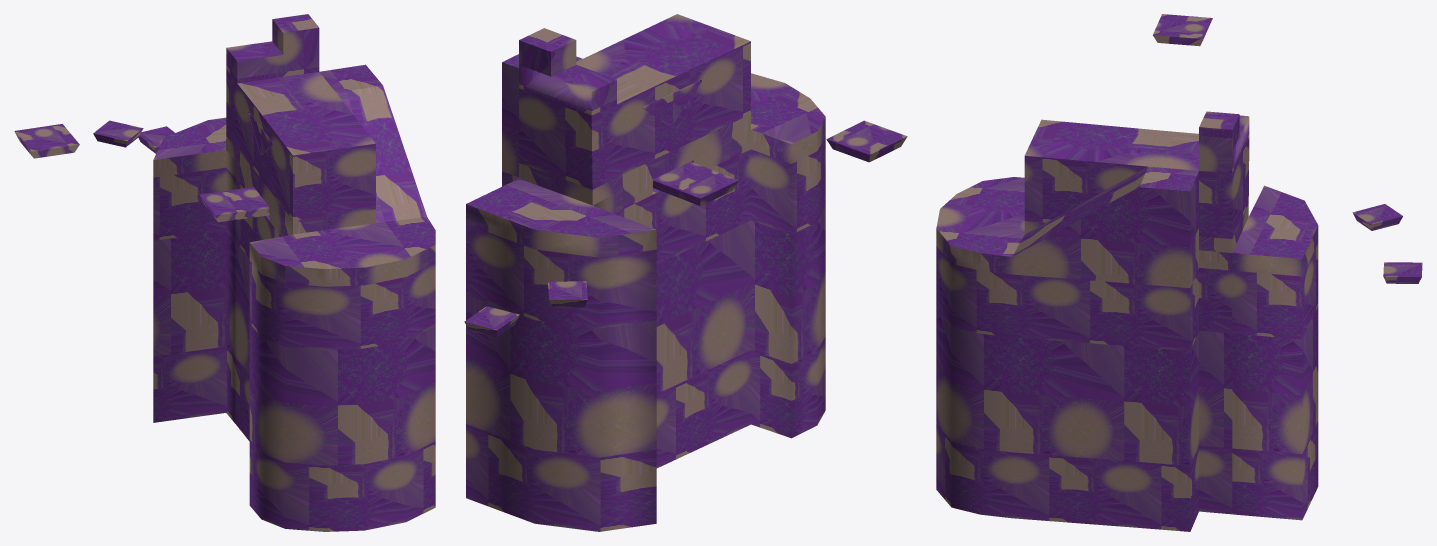
Rendered from metal monster.fbx.
The picture shows the model from 3 angles, left to right: view 1: azimuth 30°, elevation 25°; view 2: azimuth 150°, elevation 25°; view 3: azimuth 270°, elevation 25°; orthographic projection. The views are drawn at different scales.
Parts seen in each view (by area): view 1: polySurface108, polySurface107; view 2: polySurface108, polySurface107, polySurface110; view 3: polySurface108.
Boxes of the visible parts, x1,y1,x2,y2 form: polySurface108: (14,14,435,531); polySurface107: (199,187,269,222); polySurface108: (464,14,907,531); polySurface107: (653,162,738,205); polySurface110: (642,81,700,124); polySurface108: (936,14,1422,531).
Size of the model in its own units: 0.4647 by 0.4929 by 0.5649.
